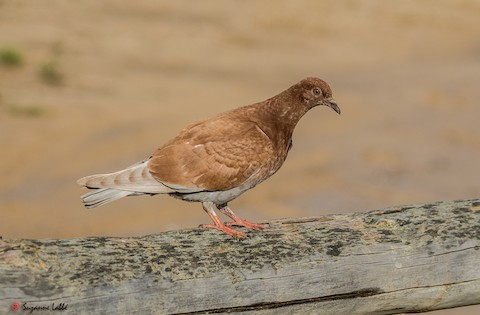pigeon: (75, 70, 346, 241)
